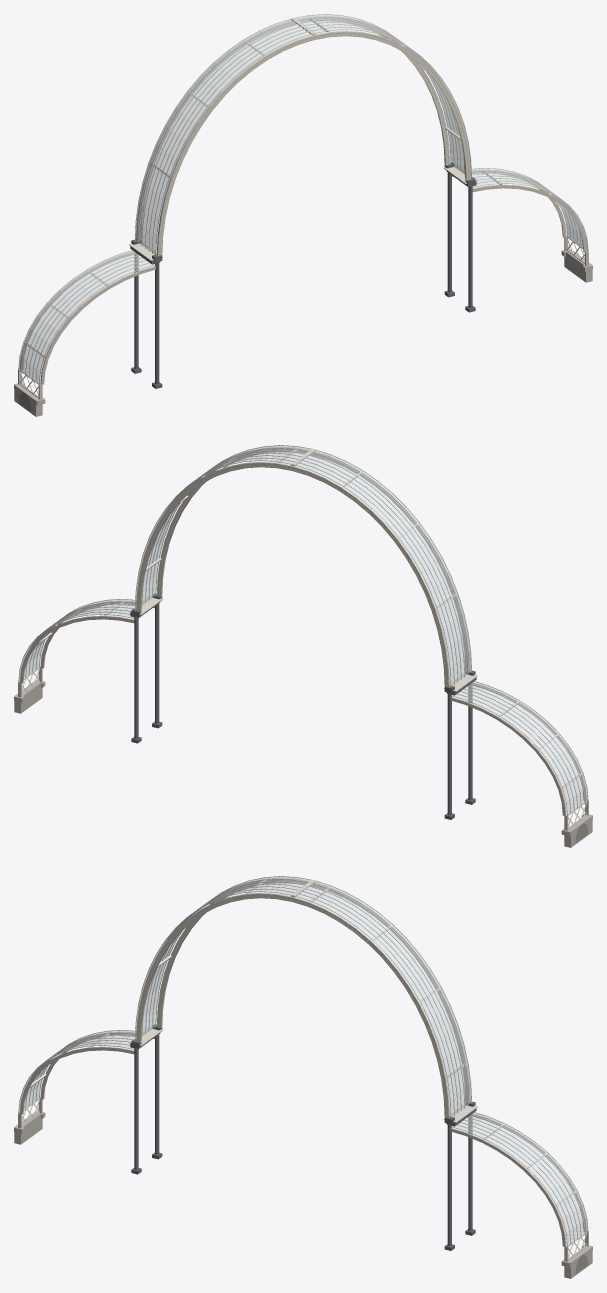
The model's file is chatsworth-great-stove-rib-bay.glb.
3 views of the same model, one above another, from view 1: azimuth 30°, elevation 25°; view 2: azimuth 150°, elevation 25°; view 3: azimuth 330°, elevation 25° (orthographic).
Visible parts, largest first — view 1: GlassCentral, GlazingBars, Ribs_Central_Laminated, GlassSide_-1, Ironwork_Pillars_Gutters, Ribs_SideArches, GlassSide_1, Purlins_Ridge_Valley, PlinthWalls; view 2: GlassCentral, GlazingBars, Ribs_Central_Laminated, GlassSide_-1, Ironwork_Pillars_Gutters, Ribs_SideArches, GlassSide_1, Purlins_Ridge_Valley, PlinthWalls; view 3: GlassCentral, GlazingBars, Ribs_Central_Laminated, GlassSide_1, Ironwork_Pillars_Gutters, Ribs_SideArches, GlassSide_-1, Purlins_Ridge_Valley, PlinthWalls.
Boxes of the visible parts, left/top/right/bottom form: GlassCentral: left=135, top=14, right=471, bottom=254; GlazingBars: left=18, top=14, right=588, bottom=384; Ribs_Central_Laminated: left=136, top=15, right=470, bottom=255; GlassSide_-1: left=19, top=250, right=154, bottom=383; Ironwork_Pillars_Gutters: left=130, top=162, right=476, bottom=388; Ribs_SideArches: left=18, top=169, right=588, bottom=399; GlassSide_1: left=471, top=168, right=587, bottom=250; Purlins_Ridge_Valley: left=25, top=17, right=569, bottom=358; PlinthWalls: left=14, top=248, right=592, bottom=416; GlassCentral: left=135, top=445, right=471, bottom=685; GlazingBars: left=18, top=445, right=588, bottom=815; Ribs_Central_Laminated: left=136, top=446, right=470, bottom=686; GlassSide_-1: left=452, top=681, right=587, bottom=814; Ironwork_Pillars_Gutters: left=130, top=593, right=476, bottom=819; Ribs_SideArches: left=18, top=600, right=588, bottom=830; GlassSide_1: left=19, top=599, right=135, bottom=681; Purlins_Ridge_Valley: left=37, top=448, right=581, bottom=789; PlinthWalls: left=14, top=679, right=592, bottom=847; GlassCentral: left=135, top=876, right=471, bottom=1116; GlazingBars: left=18, top=876, right=588, bottom=1246; Ribs_Central_Laminated: left=136, top=877, right=470, bottom=1117; GlassSide_1: left=452, top=1112, right=587, bottom=1245; Ironwork_Pillars_Gutters: left=130, top=1024, right=476, bottom=1250; Ribs_SideArches: left=18, top=1031, right=588, bottom=1261; GlassSide_-1: left=19, top=1030, right=135, bottom=1112; Purlins_Ridge_Valley: left=29, top=879, right=576, bottom=1206; PlinthWalls: left=14, top=1110, right=592, bottom=1278.
Size of the model in its own units: 37.91 by 20.52 by 2.88.
